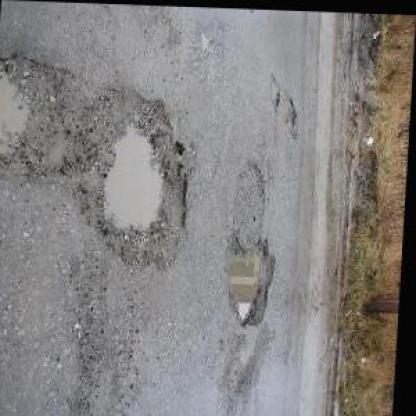pothole: (69, 79, 201, 270), (0, 51, 75, 189), (222, 234, 281, 329), (283, 94, 302, 136), (268, 75, 284, 111)
